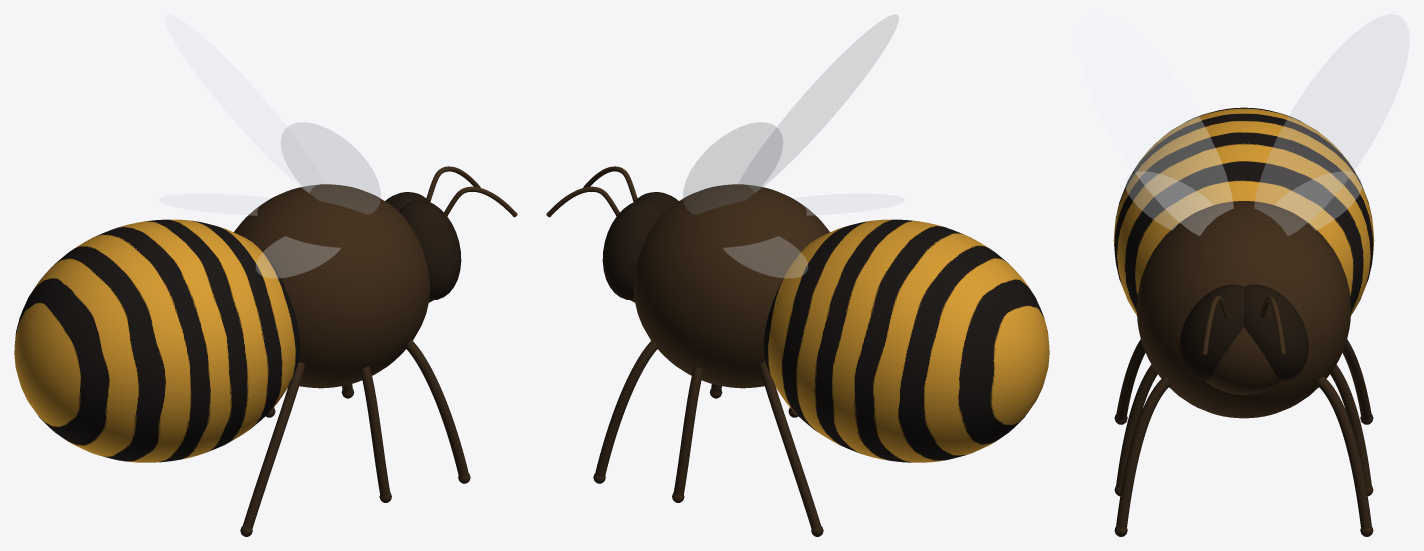
The model's file is bee-hero-drone-low.glb.
The picture shows the model from 3 angles, left to right: view 1: azimuth 30°, elevation 25°; view 2: azimuth 150°, elevation 25°; view 3: azimuth 270°, elevation 25°; orthographic projection. The views are drawn at different scales.
Visible parts, largest first — view 1: abdomen, thorax, foreWingL, foreWingR, compoundEyeR, hindWingR, hindLegR, hindWingL, foreLegR, midLegR; view 2: abdomen, thorax, foreWingR, foreWingL, compoundEyeL, hindWingL, hindLegL, hindWingR, foreLegL, midLegL; view 3: abdomen, thorax, foreWingL, foreWingR, compoundEyeL, compoundEyeR, hindWingL, hindWingR, head, foreLegL, foreLegR, midLegL (+5 smaller).
Part boxes in pixels (x1,y1,x2,y2): abdomen: [14, 219, 300, 462]; thorax: [234, 184, 430, 388]; foreWingL: [165, 14, 324, 192]; foreWingR: [281, 122, 380, 214]; compoundEyeR: [399, 199, 461, 300]; hindWingR: [256, 236, 340, 277]; hindLegR: [242, 362, 304, 529]; hindWingL: [159, 194, 270, 215]; foreLegR: [405, 340, 468, 476]; midLegR: [360, 366, 390, 495]; abdomen: [763, 219, 1049, 462]; thorax: [633, 184, 829, 388]; foreWingR: [739, 14, 898, 192]; foreWingL: [683, 122, 782, 214]; compoundEyeL: [602, 199, 664, 300]; hindWingL: [723, 236, 807, 277]; hindLegL: [759, 362, 821, 529]; hindWingR: [793, 194, 904, 215]; foreLegL: [595, 340, 658, 476]; midLegL: [673, 366, 703, 495]; abdomen: [1113, 107, 1374, 315]; thorax: [1136, 201, 1351, 418]; foreWingL: [1254, 14, 1409, 235]; foreWingR: [1078, 14, 1233, 235]; compoundEyeL: [1244, 284, 1308, 381]; compoundEyeR: [1179, 284, 1243, 381]; hindWingL: [1275, 172, 1362, 230]; hindWingR: [1125, 172, 1212, 230]; head: [1206, 327, 1281, 394]; foreLegL: [1316, 376, 1371, 528]; foreLegR: [1116, 376, 1171, 528]; midLegL: [1330, 364, 1371, 488].
Size of the model in its own units: 1.4 by 1.17 by 0.8086.
5 materials, 1 textured.
